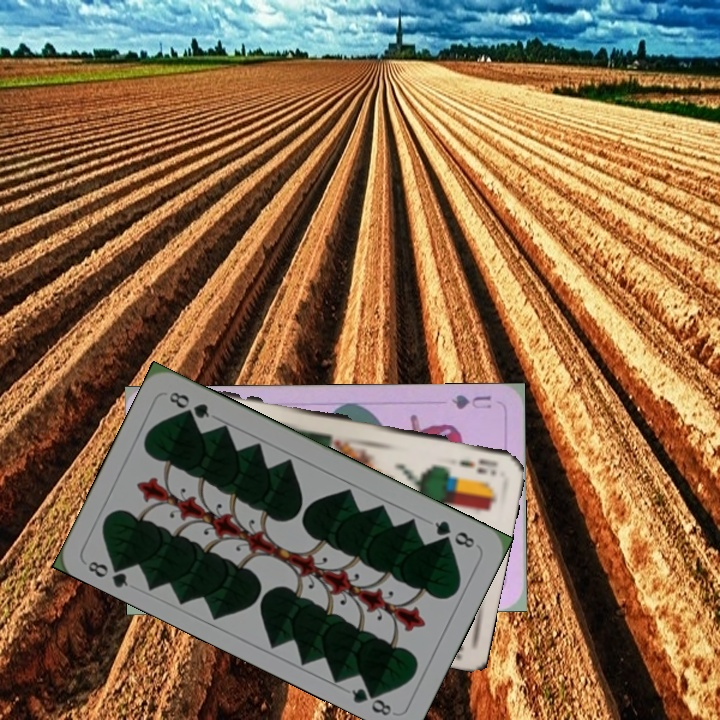EK: (454, 455, 501, 478)
G8: (83, 555, 131, 591), (430, 516, 477, 551)
GU: (448, 390, 494, 411)
